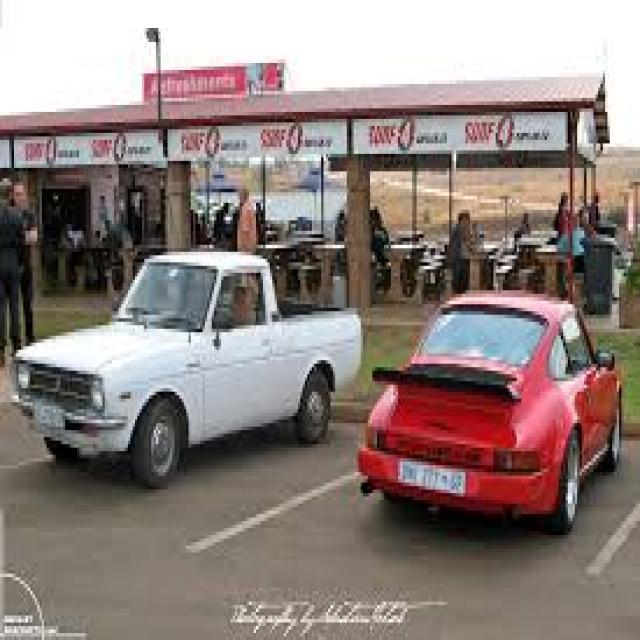Passenger Car: (356, 294, 624, 535)
Pickup Trucks: (12, 248, 360, 490)
